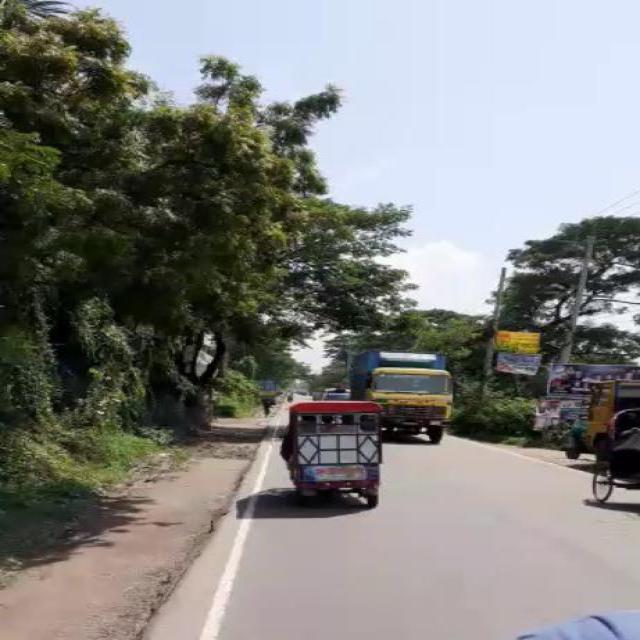auto rickshaw: (282, 401, 378, 503)
rickshaw: (580, 414, 636, 500)
truck: (350, 348, 451, 440)
